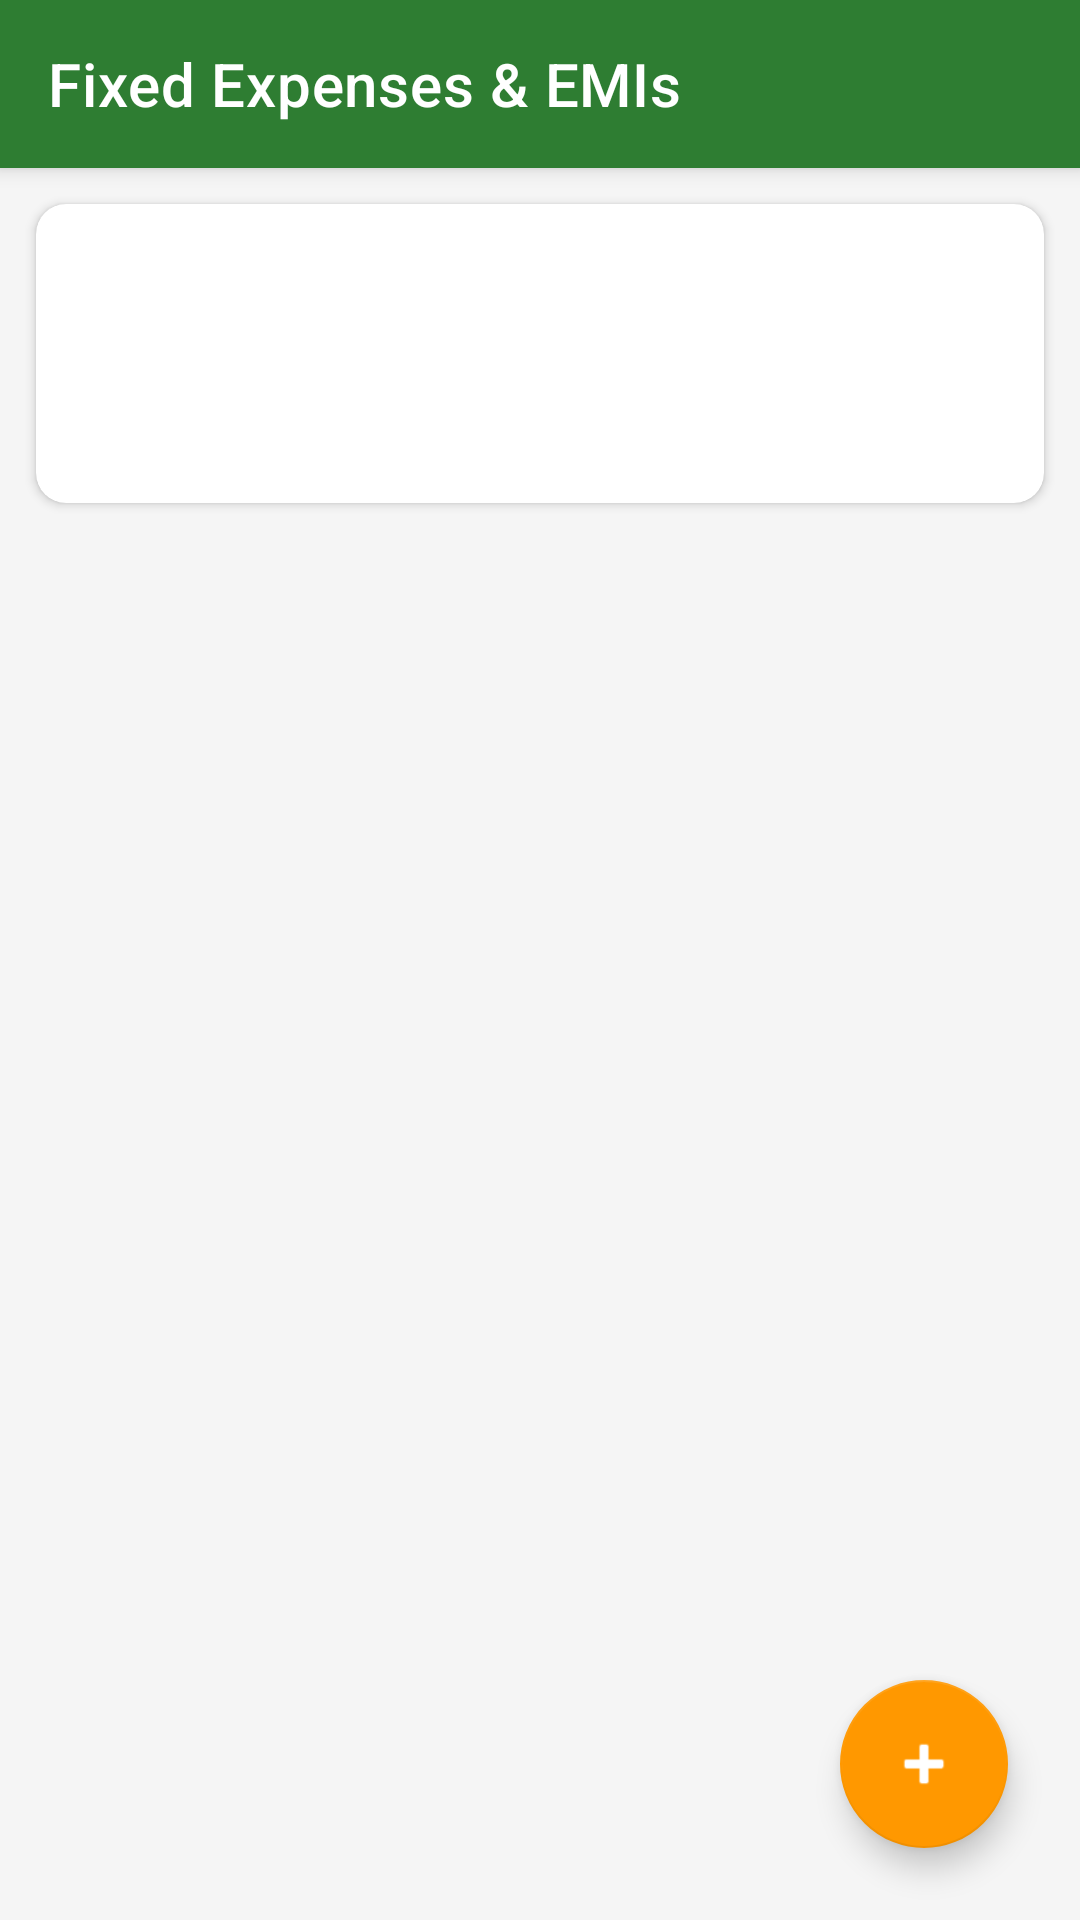

Locate icon controls on the screen. Image size 1080×1920, boxes as [x1,y1,x2,y2].
Add fixed expense or EMI: [840,1680,1008,1848]
